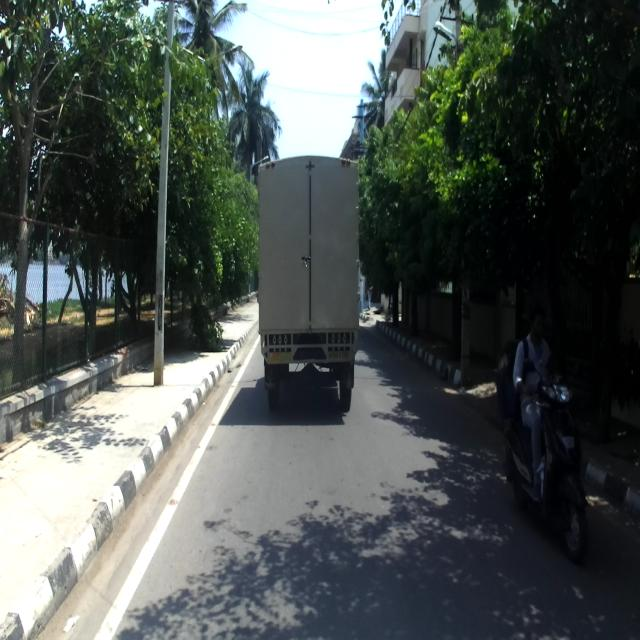electric pole ahead at: (155, 0, 175, 396)
motorcycle ahead at: (496, 365, 586, 556)
truck ahead at: (252, 147, 363, 420)
